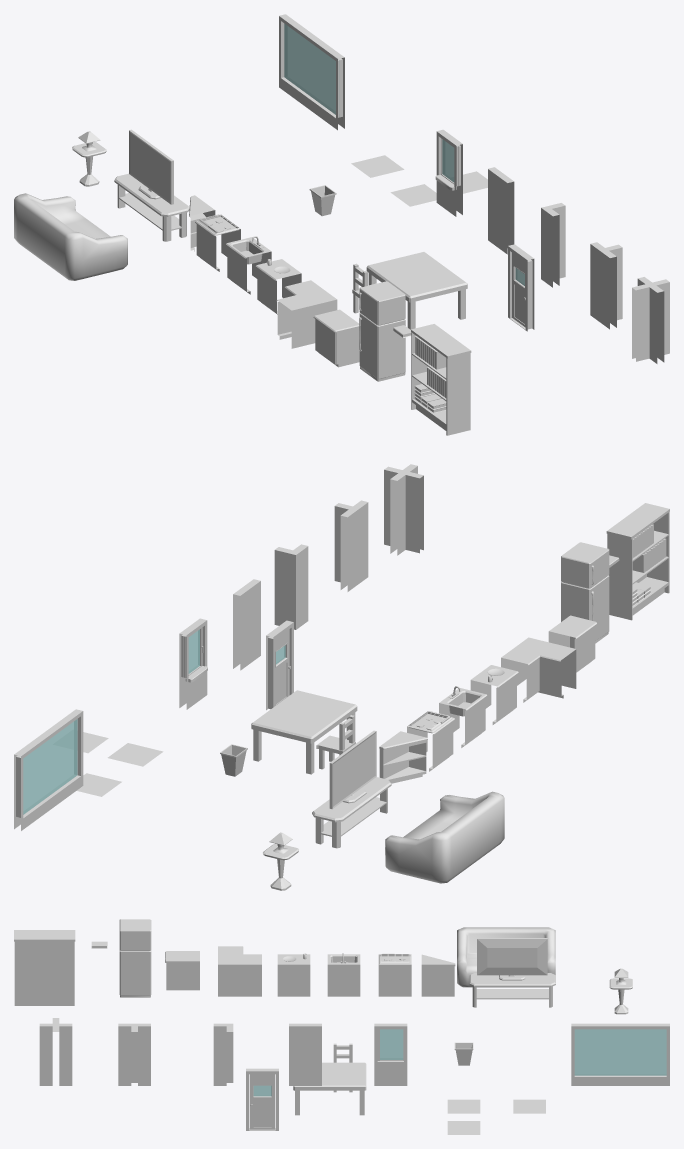
File: house_tiles.fbx
The picture shows the model from 3 angles, top to bottom: view 1: azimuth 30°, elevation 25°; view 2: azimuth 150°, elevation 25°; view 3: azimuth 270°, elevation 25°; orthographic projection. The views are drawn at different scales.
Parts seen in each view (by area): view 1: couch, wall_window_inside, regrigerator, shelf, table, WallCross, cuboard_corner, WallT, table_tv, TV, cupboard_end_2, wallForward1 (+11 smaller); view 2: couch, wall_window_inside, shelf, table, regrigerator, WallCross, cuboard_corner, WallT, wallCorner, TV, table_tv, wallForward1 (+14 smaller); view 3: wall_window_inside, shelf, TV, regrigerator, couch, cuboard_corner, wallForward1, WallT, wall_window, table_tv, WallCross, table (+13 smaller).
Boxes of the visible parts, x1,y1,x2,y2 form: couch: [14, 193, 127, 280]; wall_window_inside: [279, 14, 344, 130]; regrigerator: [359, 281, 405, 381]; shelf: [411, 324, 471, 435]; table: [366, 252, 467, 329]; WallCross: [632, 277, 669, 363]; cuboard_corner: [276, 280, 337, 348]; WallT: [590, 242, 622, 329]; table_tv: [114, 173, 189, 241]; TV: [129, 129, 173, 204]; cupboard_end_2: [313, 309, 359, 367]; wallForward1: [488, 167, 514, 254]; couch: [385, 791, 504, 883]; wall_window_inside: [14, 709, 83, 830]; shelf: [606, 503, 669, 620]; table: [251, 690, 357, 774]; regrigerator: [561, 542, 609, 643]; WallCross: [384, 464, 423, 555]; cuboard_corner: [501, 637, 576, 702]; WallT: [334, 500, 368, 591]; wallCorner: [274, 544, 308, 629]; TV: [329, 730, 376, 809]; table_tv: [312, 777, 391, 848]; wallForward1: [233, 579, 260, 670]; wall_window_inside: [571, 1023, 669, 1085]; shelf: [14, 930, 75, 1005]; TV: [477, 938, 547, 980]; regrigerator: [119, 919, 151, 997]; couch: [457, 927, 555, 987]; cuboard_corner: [218, 946, 261, 996]; wallForward1: [289, 1023, 321, 1085]; WallT: [118, 1023, 150, 1085]; wall_window: [374, 1023, 407, 1085]; table_tv: [469, 973, 555, 1007]; WallCross: [39, 1018, 72, 1085]; table: [293, 1062, 366, 1115].
Size of the model in its own units: 12.29 by 3.96 by 19.98.
